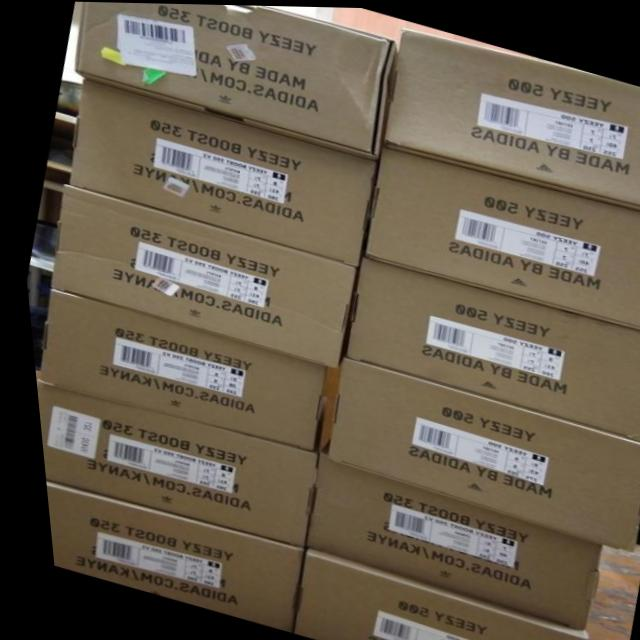box: (317, 356, 640, 550), (63, 80, 375, 266), (45, 184, 350, 367), (337, 255, 640, 439), (294, 452, 592, 628), (357, 144, 640, 329), (73, 1, 397, 158), (380, 27, 640, 210), (29, 287, 318, 448), (29, 381, 308, 545), (36, 480, 293, 631), (280, 546, 574, 640)
